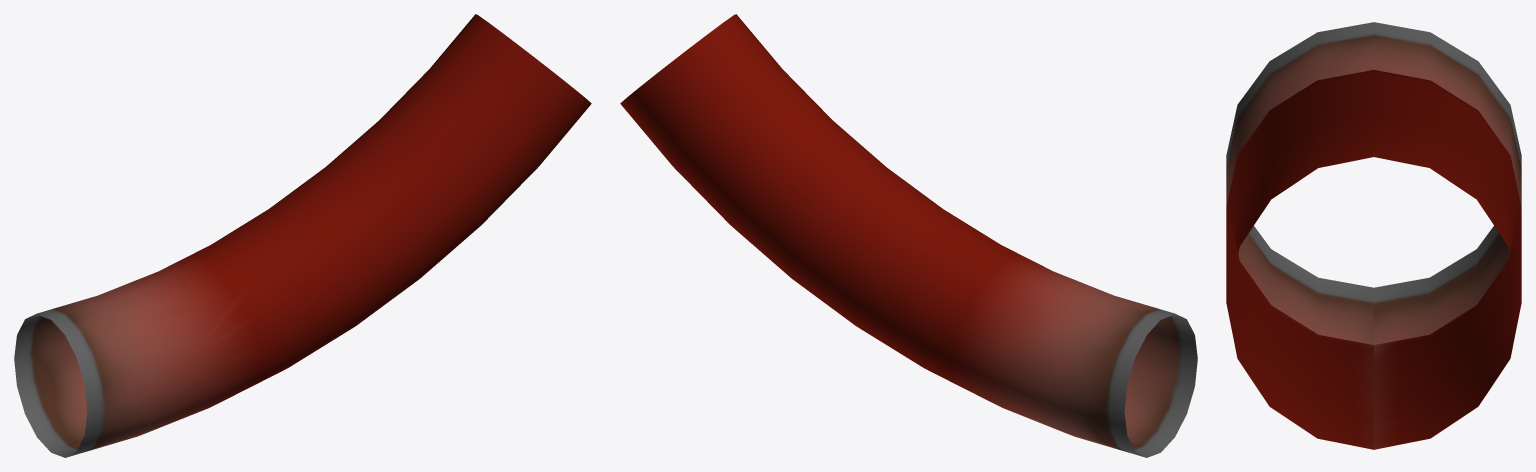
The model's file is pipe01_crn_64a_hollow.fbx.
The picture shows the model from 3 angles, left to right: view 1: azimuth 30°, elevation 25°; view 2: azimuth 150°, elevation 25°; view 3: azimuth 270°, elevation 25°; orthographic projection. The views are drawn at different scales.
Visible parts, largest first — view 1: pipe01_crn_64a_hollow; view 2: pipe01_crn_64a_hollow; view 3: pipe01_crn_64a_hollow.
Part boxes in pixels (x1,y1,x2,y2): pipe01_crn_64a_hollow: (14, 14, 591, 457); pipe01_crn_64a_hollow: (620, 14, 1197, 457); pipe01_crn_64a_hollow: (1226, 22, 1521, 449).
Size of the model in its own units: 49.5 by 28.99 by 12.
